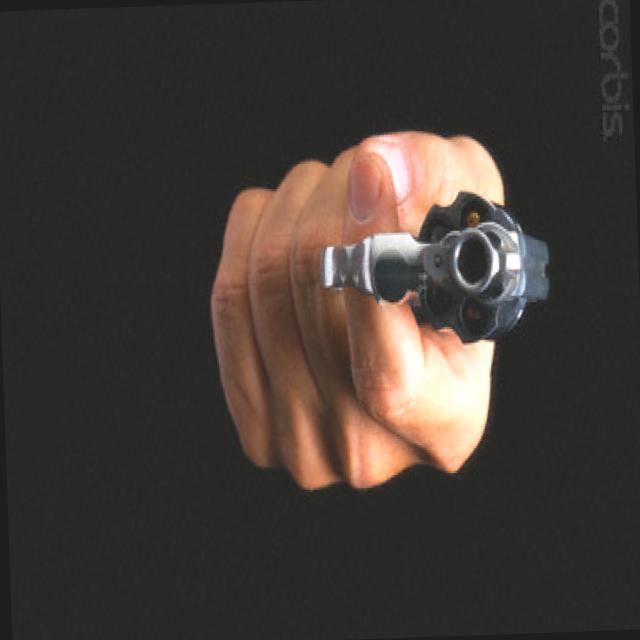handgun: (312, 184, 558, 362)
